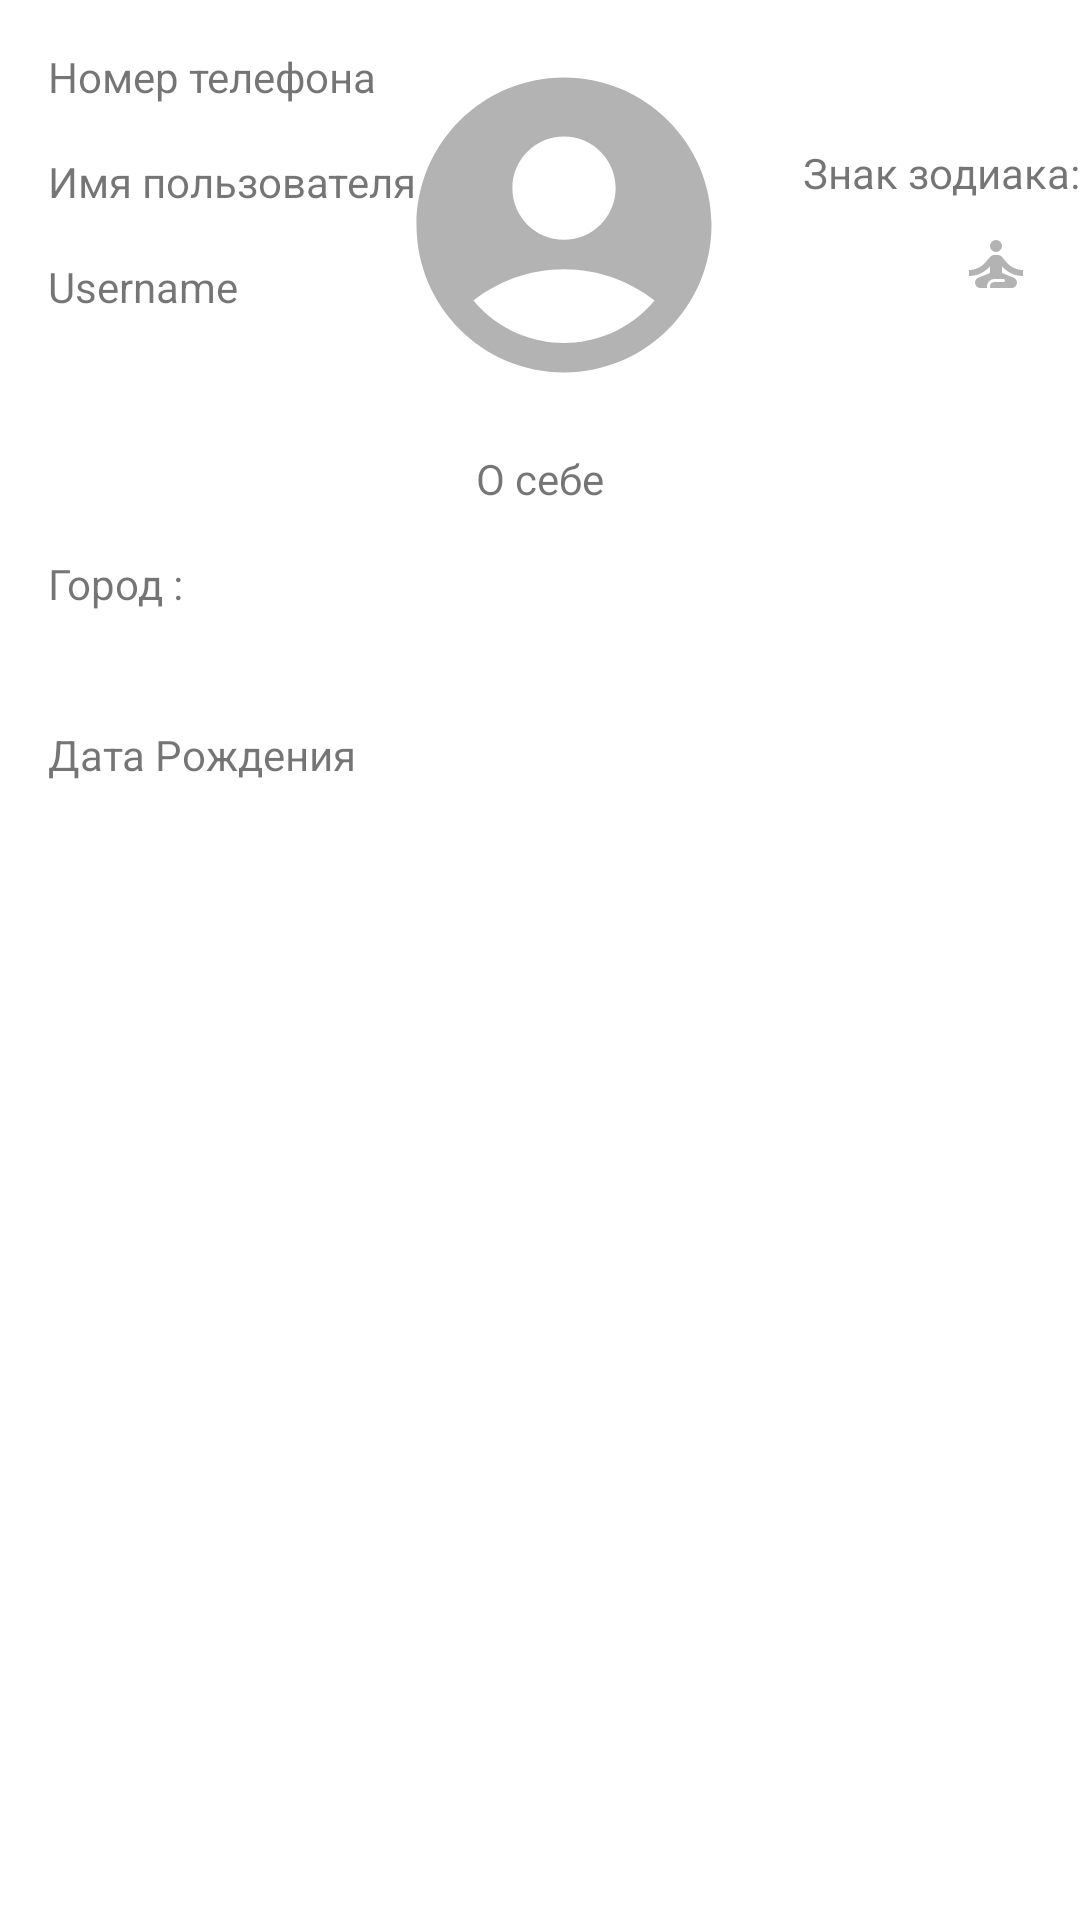

Locate icon controls on the screen. Image size 1080*1920, boxes as (x1, y1, x2, y2).
self improvement: (969, 240, 1023, 288)
